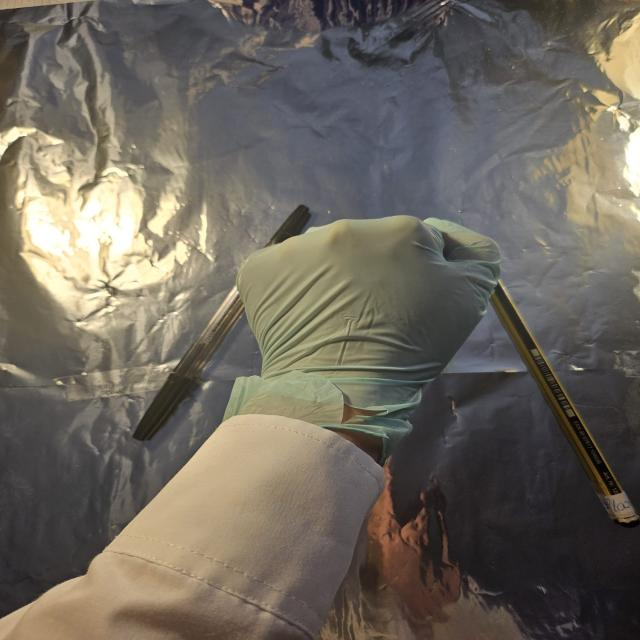gloves_damaged: (224, 215, 503, 464)
